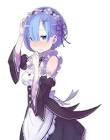rem: (9, 7, 89, 140)
